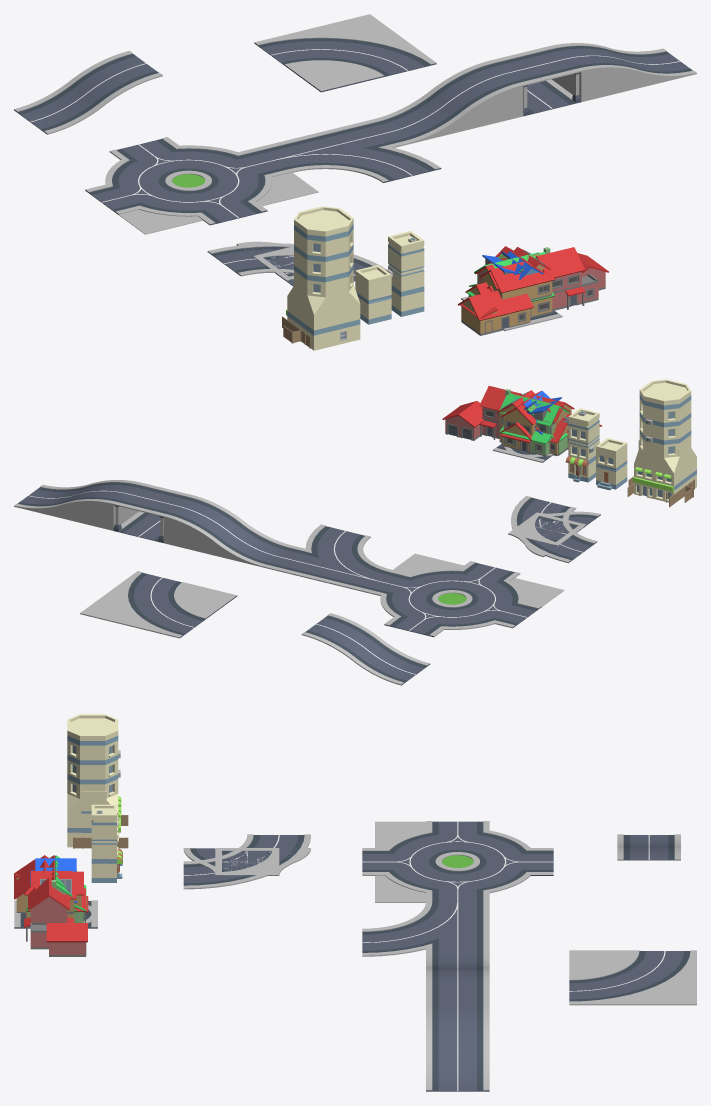
Rendered from SC_City_Slackers.fbx.
3 renders of one model, top to bottom at view 1: azimuth 30°, elevation 25°; view 2: azimuth 150°, elevation 25°; view 3: azimuth 270°, elevation 25°, orthographic. The views are drawn at different scales.
Visible parts, largest first — view 1: SM_Road_Roundabout, SM_Building_Tall_1, SM_Road_Curve_Pavement, SM_Road_Slant_Curve, SM_Road_Curve_Intersection, SM_Road_Slant_Curve.001, SM_Road_Slant_Flat_Curve, SM_Road_Bridge, SM_Suburb_House_9, SM_Building_2, SM_Suburb_House, SM_Suburb_House_1 (+5 smaller); view 2: SM_Road_Roundabout, SM_Building_Tall_1, SM_Road_Curve_Pavement, SM_Road_Slant_Curve, SM_Road_Curve_Intersection, SM_Road_Slant_Curve.001, SM_Road_Slant_Flat_Curve, SM_Road_Bridge, SM_Road_Curve, SM_Suburb_House_9, SM_Building_2, SM_Building_1 (+7 smaller); view 3: SM_Road_Roundabout, SM_Road_Curve_Pavement, SM_Road_Curve_Intersection, SM_Road_Slant_Curve.001, SM_Building_Tall_1, SM_Suburb_House_9, SM_Road_Curve, SM_Building_2, SM_Road_Bridge, SM_Road_Slant_Flat_Curve, SM_Road_Slant_Curve, SM_Tile_Low.001 (+5 smaller).
Boxes of the visible parts, x1,y1,x2,y2 form: SM_Road_Roundabout: [85, 137, 291, 225]; SM_Building_Tall_1: [286, 206, 360, 350]; SM_Road_Curve_Pavement: [254, 14, 436, 92]; SM_Road_Slant_Curve: [375, 60, 523, 144]; SM_Road_Curve_Intersection: [259, 119, 441, 182]; SM_Road_Slant_Curve.001: [548, 43, 696, 102]; SM_Road_Slant_Flat_Curve: [14, 50, 162, 134]; SM_Road_Bridge: [490, 46, 581, 116]; SM_Suburb_House_9: [536, 247, 608, 310]; SM_Building_2: [386, 231, 424, 316]; SM_Suburb_House: [458, 290, 533, 335]; SM_Suburb_House_1: [479, 246, 555, 318]; SM_Road_Roundabout: [363, 561, 541, 637]; SM_Building_Tall_1: [632, 379, 696, 502]; SM_Road_Curve_Pavement: [80, 571, 237, 638]; SM_Road_Slant_Curve: [163, 495, 291, 567]; SM_Road_Curve_Intersection: [263, 524, 391, 591]; SM_Road_Slant_Curve.001: [14, 480, 141, 530]; SM_Road_Slant_Flat_Curve: [301, 613, 430, 685]; SM_Road_Bridge: [113, 483, 191, 542]; SM_Road_Curve: [511, 496, 597, 563]; SM_Suburb_House_9: [442, 386, 522, 440]; SM_Building_2: [565, 408, 599, 482]; SM_Building_1: [596, 438, 627, 490]; SM_Road_Roundabout: [362, 821, 553, 902]; SM_Road_Curve_Pavement: [569, 950, 696, 1005]; SM_Road_Curve_Intersection: [362, 901, 489, 956]; SM_Road_Slant_Curve.001: [426, 1007, 489, 1091]; SM_Building_Tall_1: [67, 714, 121, 847]; SM_Suburb_House_9: [24, 878, 87, 956]; SM_Road_Curve: [183, 834, 310, 889]; SM_Building_2: [91, 804, 122, 882]; SM_Road_Bridge: [426, 980, 489, 1008]; SM_Road_Slant_Flat_Curve: [617, 834, 680, 860]; SM_Road_Slant_Curve: [426, 955, 489, 981]; SM_Tile_Low.001: [375, 875, 425, 902].
Size of the model in its own units: 201 by 38.5 by 214.
